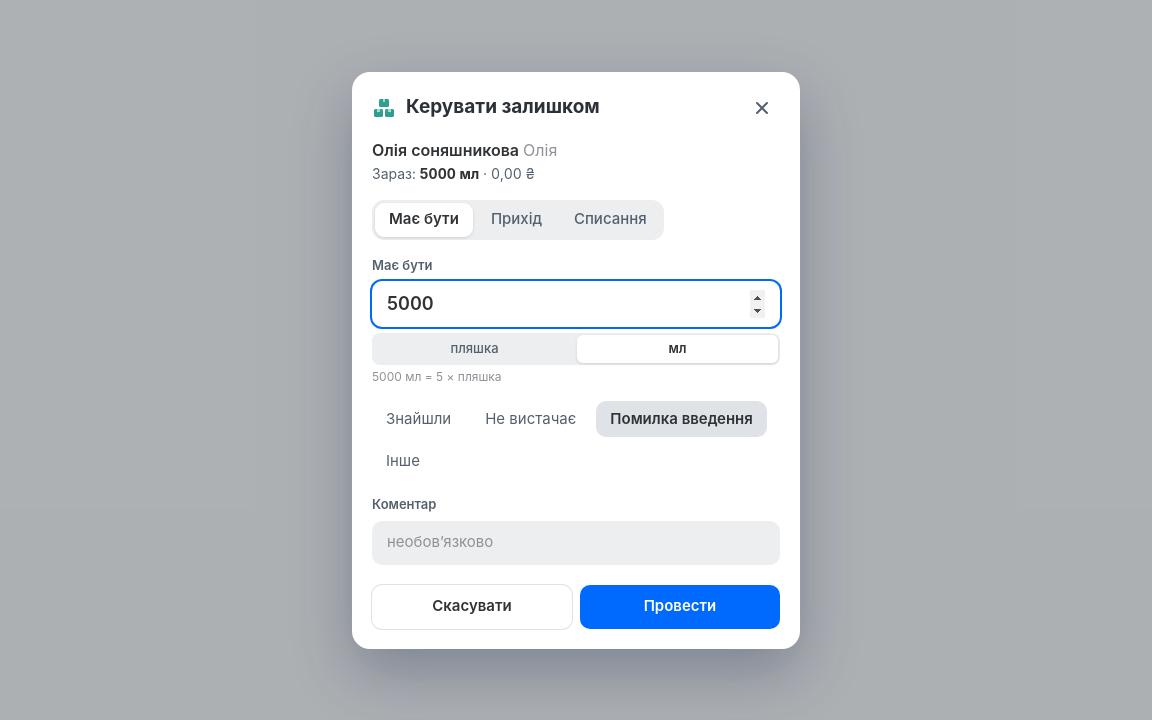
Scenario: a variant that arrives in bottles › rescales the price when the box changes sides, so the caption never lies
The width and height of the screenshot is (1152, 720).
Click the button "Прихід". click: [516, 220]
box: left=477, top=202, right=556, bottom=236
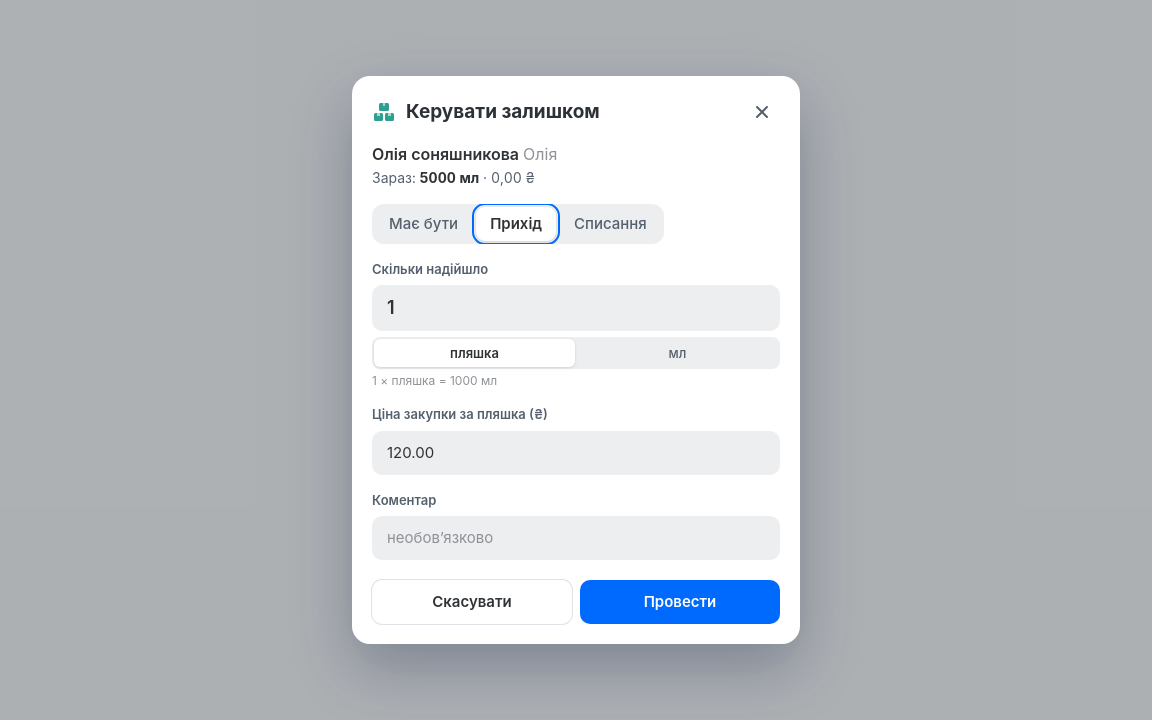
Check: the field labelled "Ціна закупки за пляшка (₴)" holds "120.00", box left=372, top=431, right=780, bottom=475
Click the button "мл". click: [678, 353]
box: left=577, top=339, right=778, bottom=367
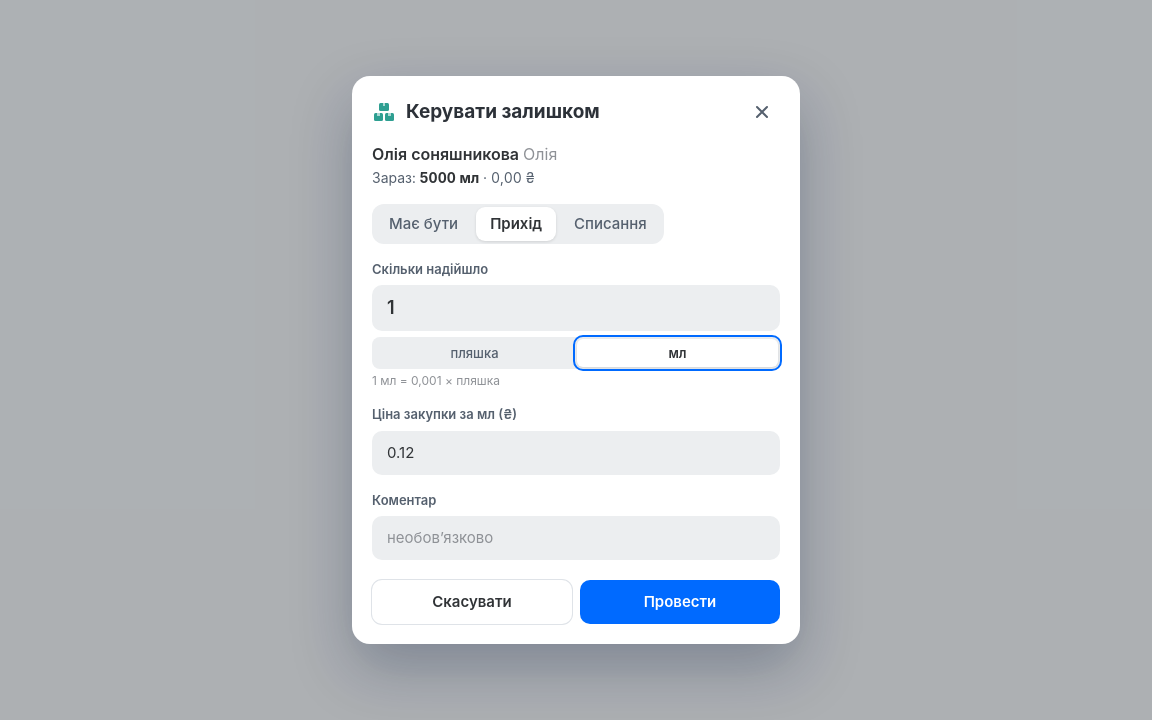
Check: the field labelled "Ціна закупки за мл (₴)" holds "0.12", box left=372, top=431, right=780, bottom=475
